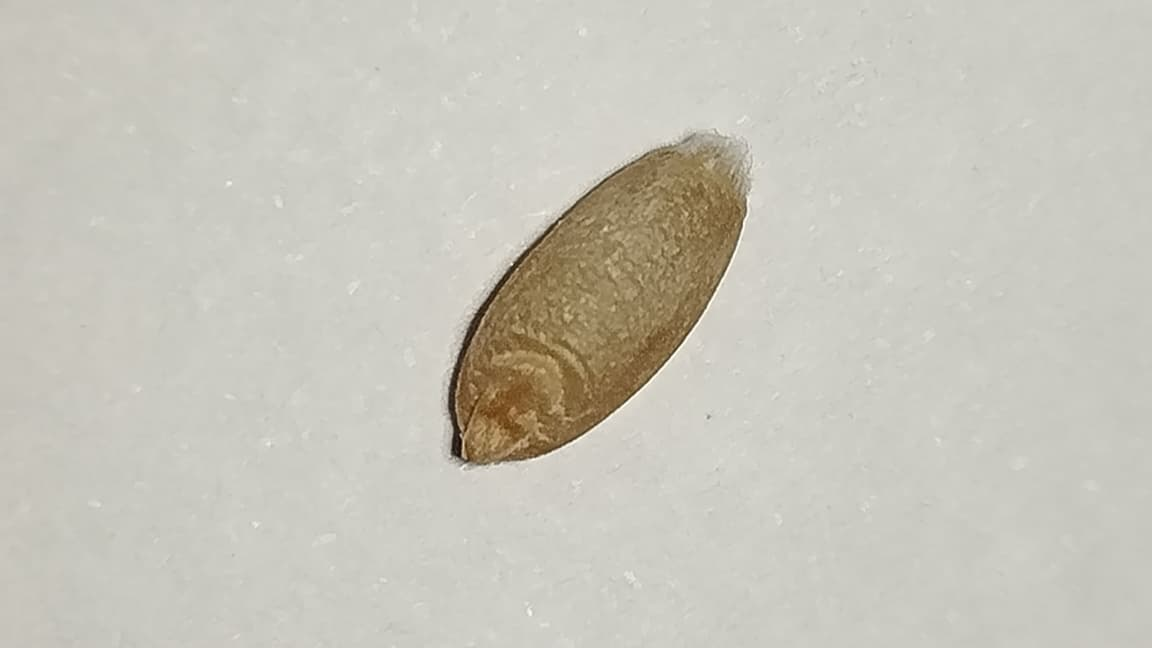healthy: (449, 132, 751, 463)
